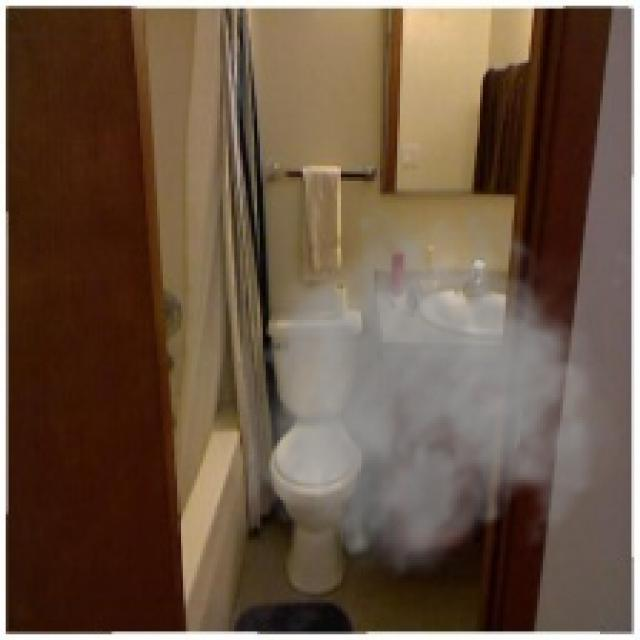smoke: (248, 200, 632, 586)
